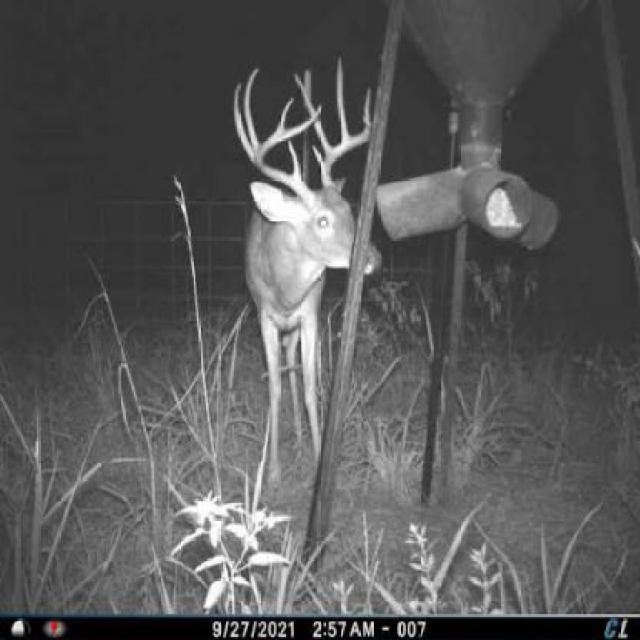Deer: (226, 52, 392, 513)
